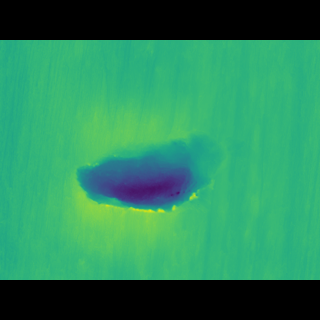Loch: (75, 132, 250, 205)
